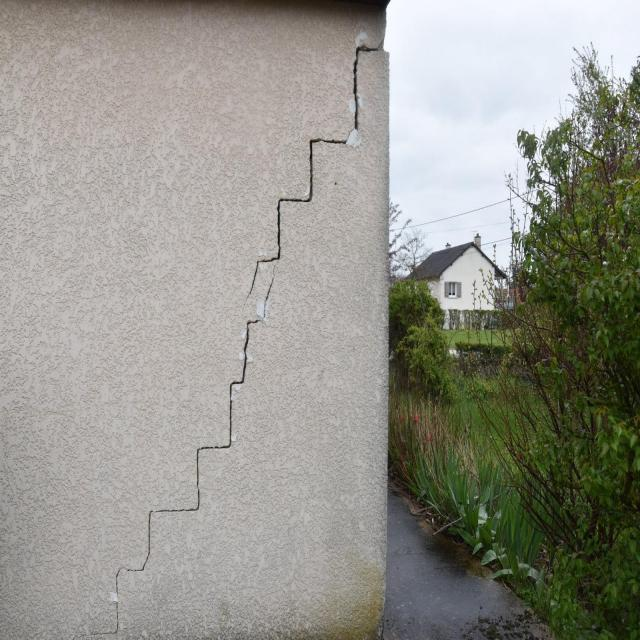crack: (118, 269, 276, 576), (247, 41, 382, 294)
